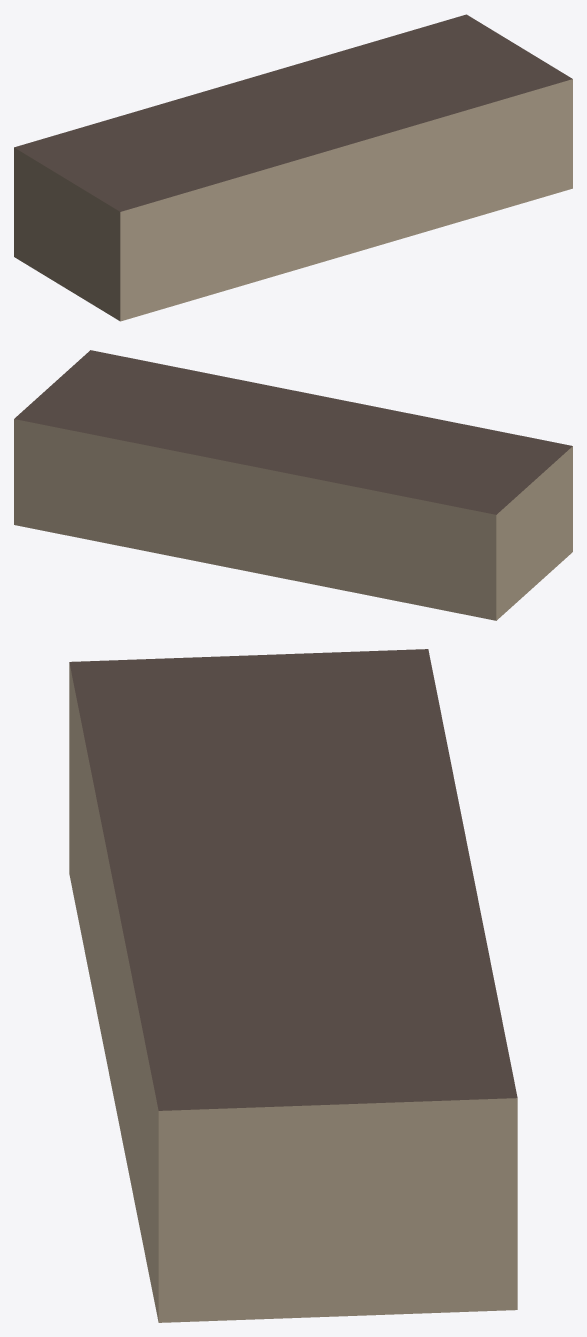
The picture shows the model from 3 angles, top to bottom: view 1: azimuth 30°, elevation 25°; view 2: azimuth 150°, elevation 25°; view 3: azimuth 270°, elevation 25°; orthographic projection. The views are drawn at different scales.
Parts seen in each view (by area): view 1: HP-w299011338; view 2: HP-w299011338; view 3: HP-w299011338.
Part boxes in pixels (x1=…): HP-w299011338: x1=14, y1=14, x2=572, y2=321; HP-w299011338: x1=14, y1=350, x2=572, y2=620; HP-w299011338: x1=69, y1=649, x2=517, y2=1322.
Bounding box in the file's own units: 42.06 × 9 × 17.25.
